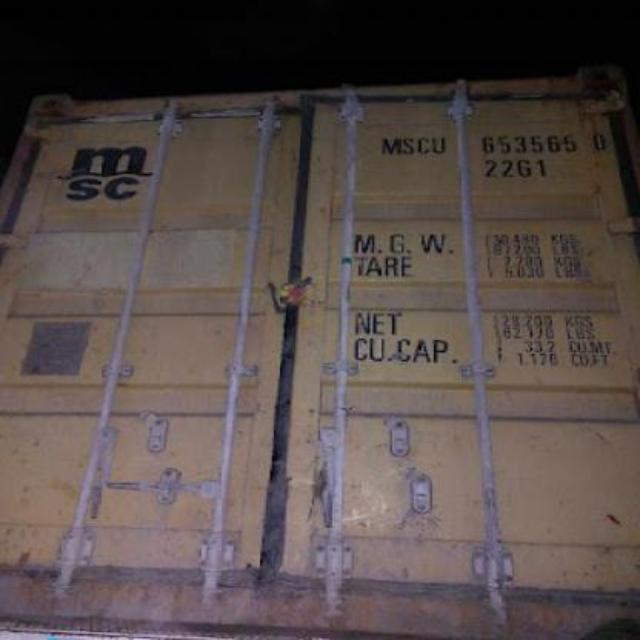0: (594, 134, 606, 150)
3: (514, 135, 530, 155)
5: (562, 132, 578, 156), (496, 135, 514, 155), (530, 134, 544, 154)
6: (546, 134, 560, 154), (481, 137, 494, 153)
C: (418, 136, 430, 154)
M: (382, 138, 400, 156)
S: (402, 135, 416, 155)
U: (432, 134, 448, 156)
